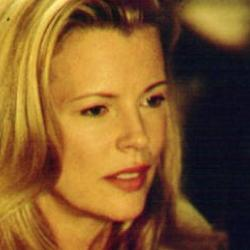face: (3, 5, 203, 232)
